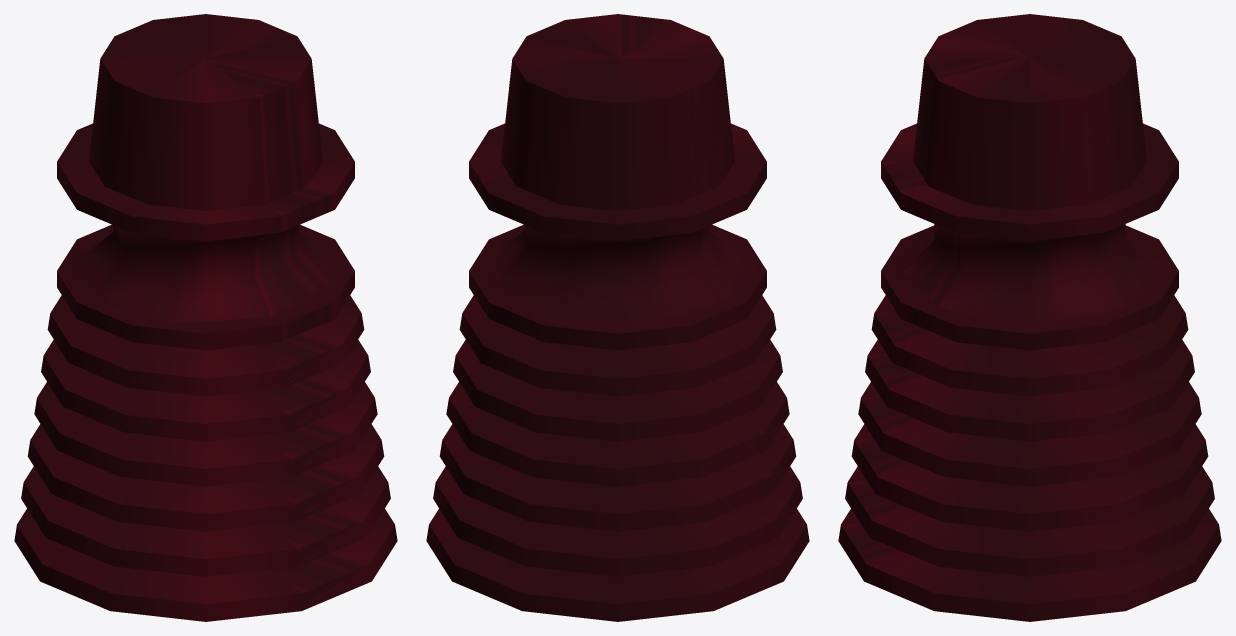
Rendered from PegPlasticT11.fbx.
3 renders of one model, left to right at view 1: azimuth 30°, elevation 25°; view 2: azimuth 150°, elevation 25°; view 3: azimuth 270°, elevation 25°, orthographic.
Parts seen in each view (by area): view 1: PegPlasticT11; view 2: PegPlasticT11; view 3: PegPlasticT11.
Boxes of the visible parts, left/top/right/bottom form: PegPlasticT11: left=14, top=14, right=397, bottom=621; PegPlasticT11: left=426, top=14, right=809, bottom=621; PegPlasticT11: left=838, top=14, right=1221, bottom=621.
Bounding box in the file's own units: 1.85 × 2.56 × 1.85.
Materials: 1 (1 with a texture image).
